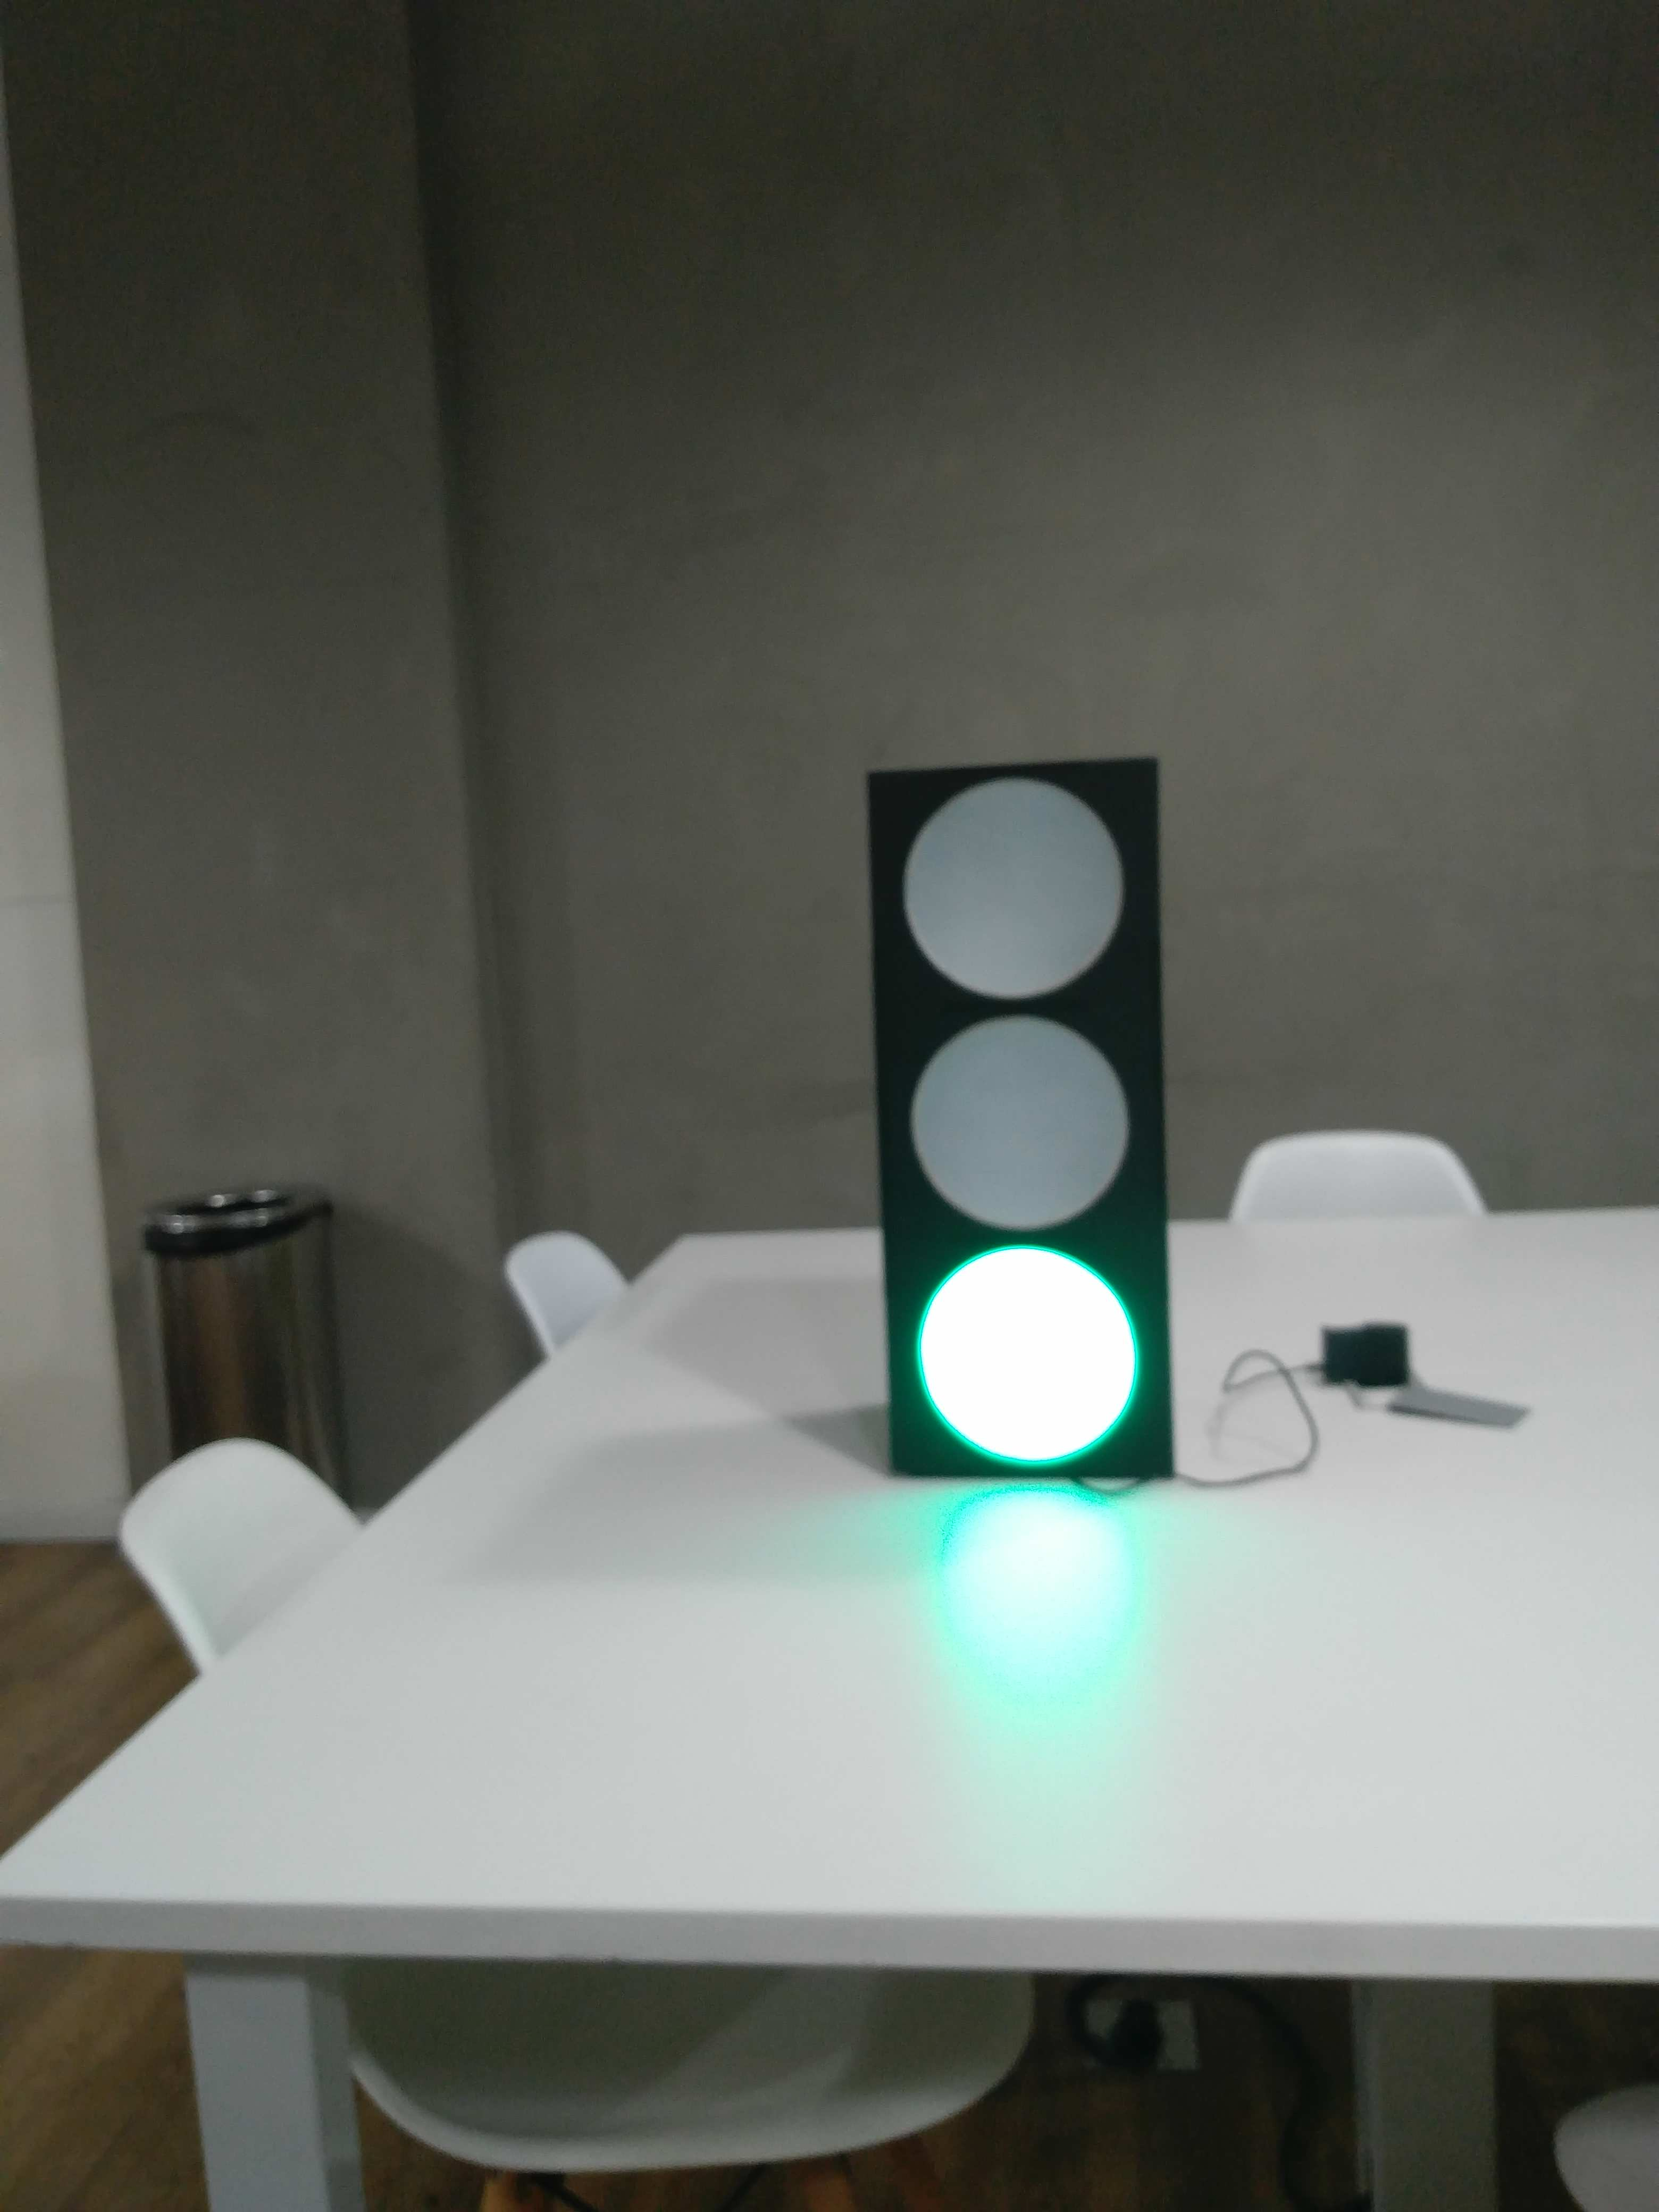go: (831, 740, 1246, 1503)
